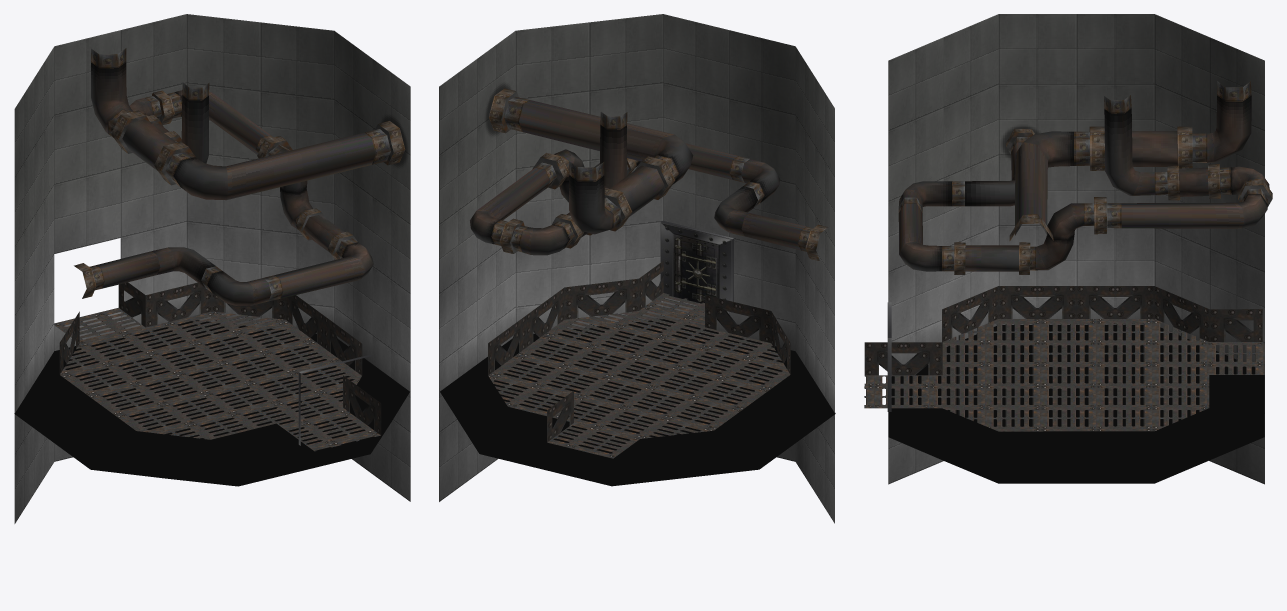
File: room_22.glb
3 views of the same model, side by side, from view 1: azimuth 30°, elevation 25°; view 2: azimuth 150°, elevation 25°; view 3: azimuth 270°, elevation 25° (orthographic). The views are drawn at different scales.
Visible parts, largest first — view 1: wall, platform, oil, LargePipe1Elbow2, platform1, LargePipe1Elbow7, LargePipe1Elbow6, LargePipe1Elbow3, SmallPipe1Elbow1, LargePipe1Elbow1, LargePipe1Elbow5, LargeStraightPipe1 (+6 smaller); view 2: wall, oil, platform, platform1, LargePipe1Elbow2, VaultDoorCover, LargePipe1Elbow3, LargePipe1Elbow6, SmallPipe1Elbow1, LargePipe1Elbow5, SmallPipe1Elbow4, LargePipe1Elbow7 (+7 smaller); view 3: wall, oil, platform, platform1, LargePipe1Elbow3, LargePipe1Elbow2, SmallPipe1Elbow1, LargePipe1Elbow6, LargePipe1Elbow7, LargeStraightPipe1, LargeStraightPipe2, LargePipe1Elbow1 (+8 smaller).
Boxes of the visible parts, box(x1,y1,x2,y2) form: wall: box(14, 14, 410, 523); platform: box(53, 308, 380, 451); oil: box(14, 320, 409, 486); LargePipe1Elbow2: box(165, 129, 390, 200); platform1: box(59, 282, 381, 435); LargePipe1Elbow7: box(263, 238, 373, 301); LargePipe1Elbow6: box(91, 48, 133, 137); LargePipe1Elbow3: box(167, 90, 273, 154); SmallPipe1Elbow1: box(175, 82, 209, 163); LargePipe1Elbow1: box(201, 266, 271, 305); LargePipe1Elbow5: box(89, 251, 160, 290); LargeStraightPipe1: box(122, 119, 176, 170); wall: box(439, 14, 834, 523); oil: box(440, 319, 835, 486); platform: box(488, 293, 790, 458); platform1: box(488, 261, 790, 442); LargePipe1Elbow2: box(504, 97, 693, 184); VaultDoorCover: box(660, 221, 733, 303); LargePipe1Elbow3: box(470, 162, 557, 245); LargePipe1Elbow6: box(569, 161, 620, 234); SmallPipe1Elbow1: box(600, 112, 627, 188); LargePipe1Elbow5: box(741, 213, 812, 251); SmallPipe1Elbow4: box(511, 221, 574, 255); LargePipe1Elbow7: box(634, 143, 749, 182); wall: box(888, 14, 1264, 484); oil: box(888, 325, 1264, 483); platform: box(864, 319, 1264, 431); platform1: box(864, 286, 1262, 375); LargePipe1Elbow3: box(1107, 189, 1267, 228); LargePipe1Elbow2: box(1015, 131, 1089, 235); SmallPipe1Elbow1: box(1104, 95, 1167, 195); LargePipe1Elbow6: box(1192, 81, 1251, 162); LargePipe1Elbow7: box(898, 197, 954, 271); LargeStraightPipe1: box(1132, 131, 1177, 166); LargeStraightPipe2: box(965, 245, 1018, 271); LargePipe1Elbow1: box(898, 181, 964, 206).
Size of the model in its own units: 73 by 90.06 by 78.63.
Materials: 10 (10 with a texture image).
